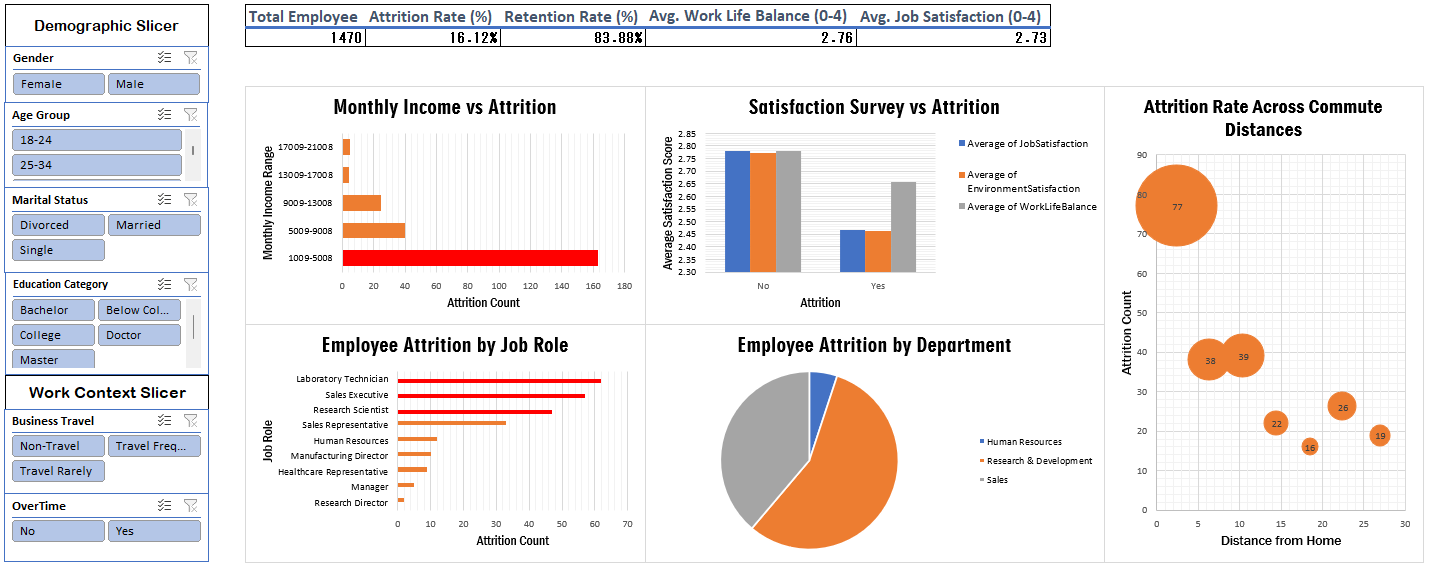

The dashboard page shown, as its layout file describes it:
{"tool":"powerbi","page":{"name":"Dashboard","canvas":[1280,720],"ordinal":0},"visuals":[{"type":"cardVisual","fields":{"Data":["HR-Employee-Attrition.Total Employee"]},"box":[57,0,168,96],"z":0,"group":"g3"},{"type":"shape","box":[0,96,40,310],"z":0},{"type":"group","id":"g1","title":"Group 1","box":[0,416.2,40,300],"z":0,"group":"g2"},{"type":"shape","box":[0,416.2,40,299.7],"z":0,"group":"g1"},{"type":"cardVisual","fields":{"Data":["HR-Employee-Attrition.Employee Attrition"]},"box":[225,0,168,96],"z":1000,"group":"g3"},{"type":"image","box":[0,96,40,310],"z":1000},{"type":"cardVisual","fields":{"Data":["HR-Employee-Attrition.Attrition Rate"]},"box":[393,1,168,96],"z":2000,"group":"g3"},{"type":"clusteredBarChart","title":"Employee Attrition by Monthly Income","fields":{"Category":["HR-Employee-Attrition.MonthlyIncomeGroup"],"Y":["HR-Employee-Attrition.Employee Attrition"]},"box":[176,96,312,310],"z":2000},{"type":"cardVisual","fields":{"Data":["HR-Employee-Attrition.Retention Rate"]},"box":[561,0,176,96],"z":3000,"group":"g3"},{"type":"slicer","fields":{"Values":["HR-Employee-Attrition.AgeGroup"]},"box":[40,175.7,120,76.4],"z":3000},{"type":"cardVisual","fields":{"Data":["Avg(HR-Employee-Attrition.WorkLifeBalance)"]},"box":[737,0,246,96],"z":4000,"group":"g3"},{"type":"group","id":"g2","title":"Group 2","box":[0,416.2,40,300],"z":4000},{"type":"cardVisual","fields":{"Data":["Avg(HR-Employee-Attrition.JobSatisfaction)"]},"box":[983,0,240,96],"z":5000,"group":"g3"},{"type":"slicer","fields":{"Values":["HR-Employee-Attrition.Gender"]},"box":[40,95.7,120,80],"z":5000},{"type":"gauge","title":"Avg. Job Involvement Score","fields":{"Y":["Avg(HR-Employee-Attrition.JobInvolvement)"]},"box":[1048,406,225,140],"z":6000},{"type":"slicer","fields":{"Values":["HR-Employee-Attrition.EducationCategory"]},"box":[40,252.1,120,77.1],"z":7000},{"type":"clusteredColumnChart","fields":{"Category":["HR-Employee-Attrition.Department"],"Y":["HR-Employee-Attrition.Employee Attrition"]},"box":[728,416,312,300],"z":8000},{"type":"clusteredBarChart","title":"Employee Attrition by Job Role","fields":{"Category":["HR-Employee-Attrition.JobRole"],"Y":["HR-Employee-Attrition.Employee Attrition"]},"box":[496,96,544,310],"z":9000},{"type":"slicer","fields":{"Values":["HR-Employee-Attrition.EducationField"]},"box":[40,329,120,77],"z":10000},{"type":"gauge","title":"Avg. Performance Rating","fields":{"Y":["Avg(HR-Employee-Attrition.PerformanceRating)"]},"box":[1048,266,225,140],"z":11000},{"type":"lineClusteredColumnComboChart","title":"Employee Attrition by Distance From Home","fields":{"Category":["HR-Employee-Attrition.DistanceFromHome"],"Y":["HR-Employee-Attrition.Employee Attrition"]},"box":[176,416,545,300],"z":12000},{"type":"gauge","title":"Avg. Environment Satisfaction Rating","fields":{"Y":["Avg(HR-Employee-Attrition.EnvironmentSatisfaction)"]},"box":[1048,96,225,170],"z":13000},{"type":"gauge","title":"Avg. Relationship Satisfaction Rating","fields":{"Y":["Avg(HR-Employee-Attrition.RelationshipSatisfaction)"]},"box":[1048,546,225,170],"z":14000},{"type":"image","box":[0,416.2,40,300],"z":15000},{"type":"slicer","fields":{"Values":["HR-Employee-Attrition.BusinessTravel"]},"box":[40,493.6,120,76.4],"z":16000},{"type":"slicer","fields":{"Values":["HR-Employee-Attrition.OverTime"]},"box":[40,416.4,120,77.3],"z":17000},{"type":"slicer","fields":{"Values":["HR-Employee-Attrition.TotalWorkingYears"]},"box":[40,570,120,146.4],"z":18000},{"type":"group","id":"g3","title":"Group 3","box":[57,0,1166,97],"z":19000}]}

Visuals, with their boxes on the page's 1280x720 design canvas (x1, y1, x2, y2). These are canvas units, not pixel positions in the 1430x567 screenshot, which may show the page scaled, cropped or inside an application window:
cardVisual - HR-Employee-Attrition.Total Employee: locate(57, 0, 225, 96)
shape: locate(0, 96, 40, 406)
"Group 1" group: locate(0, 416, 40, 716)
shape: locate(0, 416, 40, 716)
cardVisual - HR-Employee-Attrition.Employee Attrition: locate(225, 0, 393, 96)
image: locate(0, 96, 40, 406)
cardVisual - HR-Employee-Attrition.Attrition Rate: locate(393, 1, 561, 97)
"Employee Attrition by Monthly Income" clusteredBarChart: locate(176, 96, 488, 406)
cardVisual - HR-Employee-Attrition.Retention Rate: locate(561, 0, 737, 96)
slicer - HR-Employee-Attrition.AgeGroup: locate(40, 176, 160, 252)
cardVisual - Avg(HR-Employee-Attrition.WorkLifeBalance): locate(737, 0, 983, 96)
"Group 2" group: locate(0, 416, 40, 716)
cardVisual - Avg(HR-Employee-Attrition.JobSatisfaction): locate(983, 0, 1223, 96)
slicer - HR-Employee-Attrition.Gender: locate(40, 96, 160, 176)
"Avg. Job Involvement Score" gauge: locate(1048, 406, 1273, 546)
slicer - HR-Employee-Attrition.EducationCategory: locate(40, 252, 160, 329)
clusteredColumnChart - HR-Employee-Attrition.Department x HR-Employee-Attrition.Employee Attrition: locate(728, 416, 1040, 716)
"Employee Attrition by Job Role" clusteredBarChart: locate(496, 96, 1040, 406)
slicer - HR-Employee-Attrition.EducationField: locate(40, 329, 160, 406)
"Avg. Performance Rating" gauge: locate(1048, 266, 1273, 406)
"Employee Attrition by Distance From Home" lineClusteredColumnComboChart: locate(176, 416, 721, 716)
"Avg. Environment Satisfaction Rating" gauge: locate(1048, 96, 1273, 266)
"Avg. Relationship Satisfaction Rating" gauge: locate(1048, 546, 1273, 716)
image: locate(0, 416, 40, 716)
slicer - HR-Employee-Attrition.BusinessTravel: locate(40, 494, 160, 570)
slicer - HR-Employee-Attrition.OverTime: locate(40, 416, 160, 494)
slicer - HR-Employee-Attrition.TotalWorkingYears: locate(40, 570, 160, 716)
"Group 3" group: locate(57, 0, 1223, 97)
